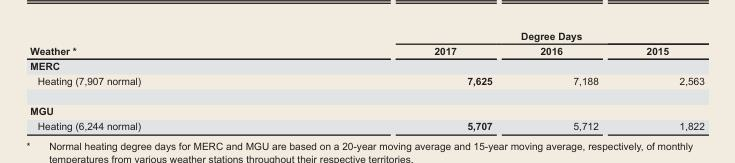table: (29, 29, 703, 131)
table column: (29, 29, 286, 131), (286, 29, 515, 131), (515, 29, 621, 131), (621, 29, 703, 131)
table column header: (29, 29, 703, 57)
table projected row header: (29, 95, 703, 118), (29, 57, 703, 72)
table row: (29, 72, 703, 95), (29, 95, 703, 118), (29, 42, 703, 57), (29, 57, 703, 72), (29, 29, 703, 42), (29, 118, 703, 131)
table spanning cell: (29, 29, 286, 57), (286, 29, 703, 42)
